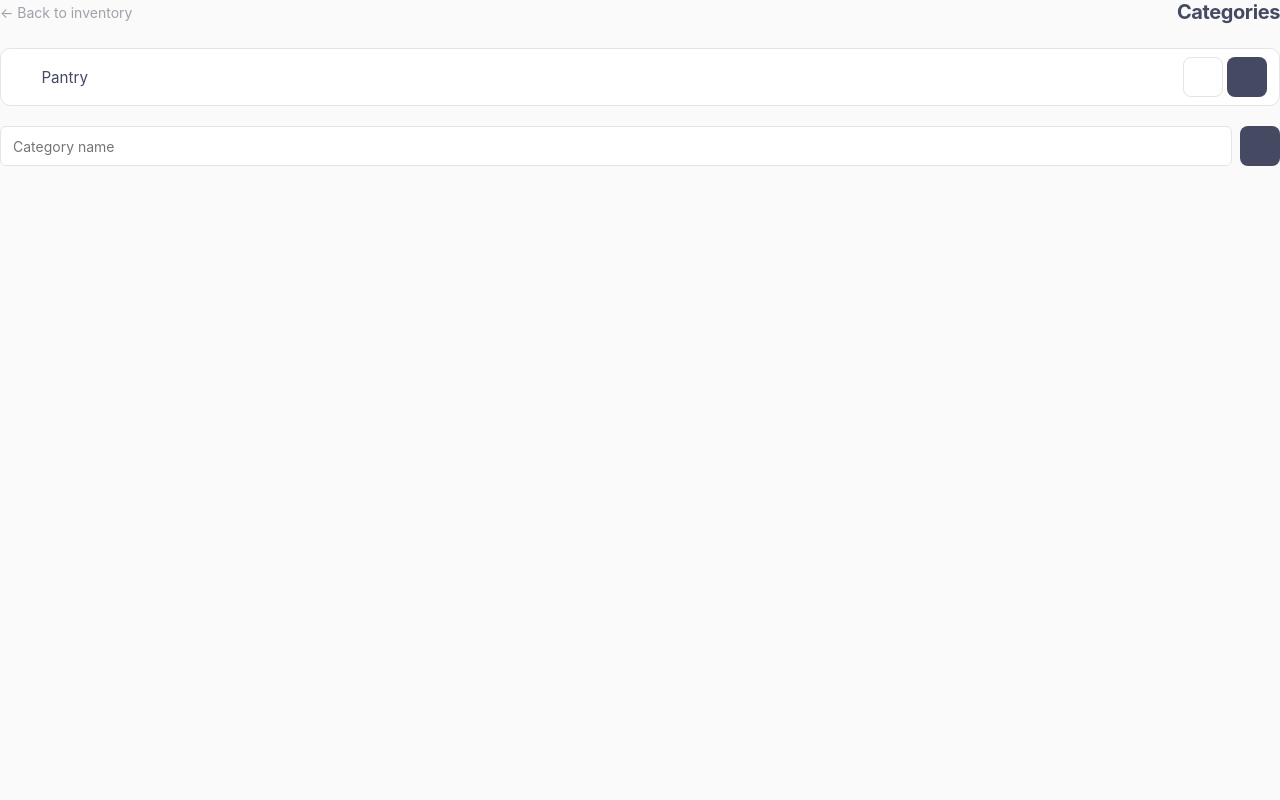
StockGroupsPage › shows a delete error when the DELETE rejects
The image size is (1280, 800).
Step 1. Click the button named "delete" → click(1203, 77), box left=1183, top=57, right=1223, bottom=97
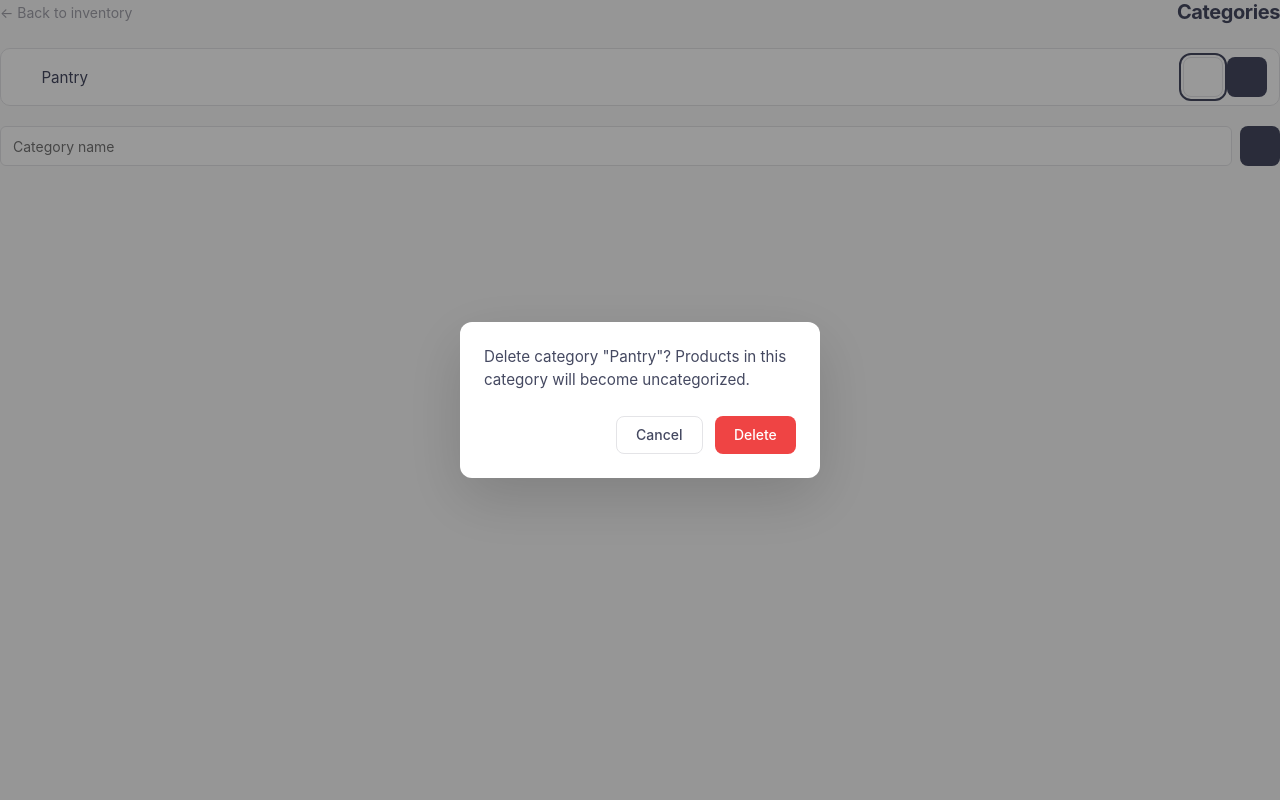
Step 2. Click the button "Delete" → click(755, 435), box left=715, top=416, right=796, bottom=454
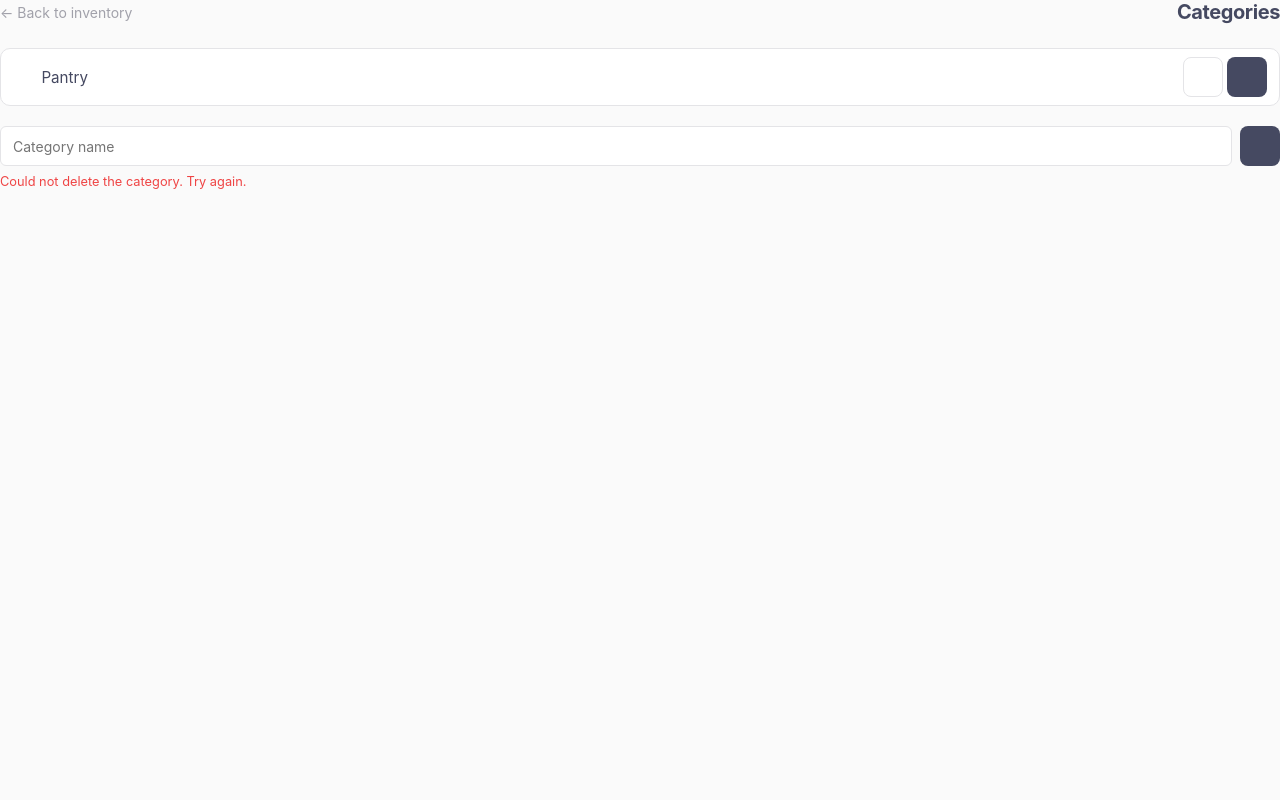
Now the text "Could not delete the category. Try again." is shown, box left=0, top=174, right=246, bottom=189
